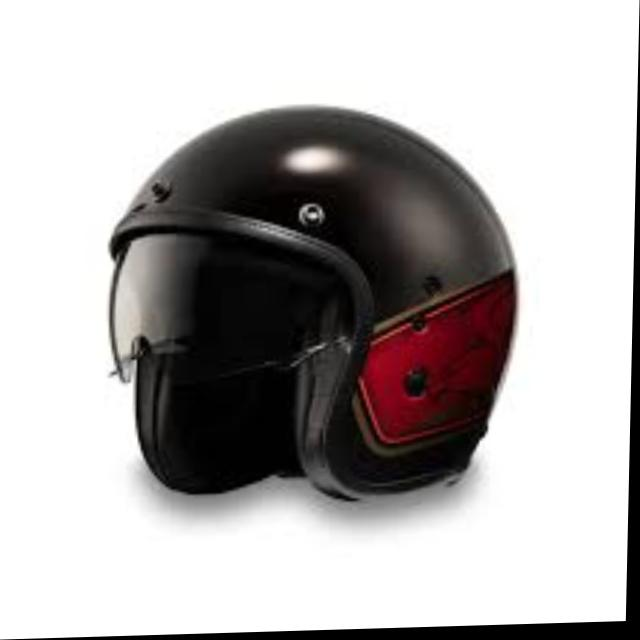motorcycle-helmets: (90, 92, 522, 525)
